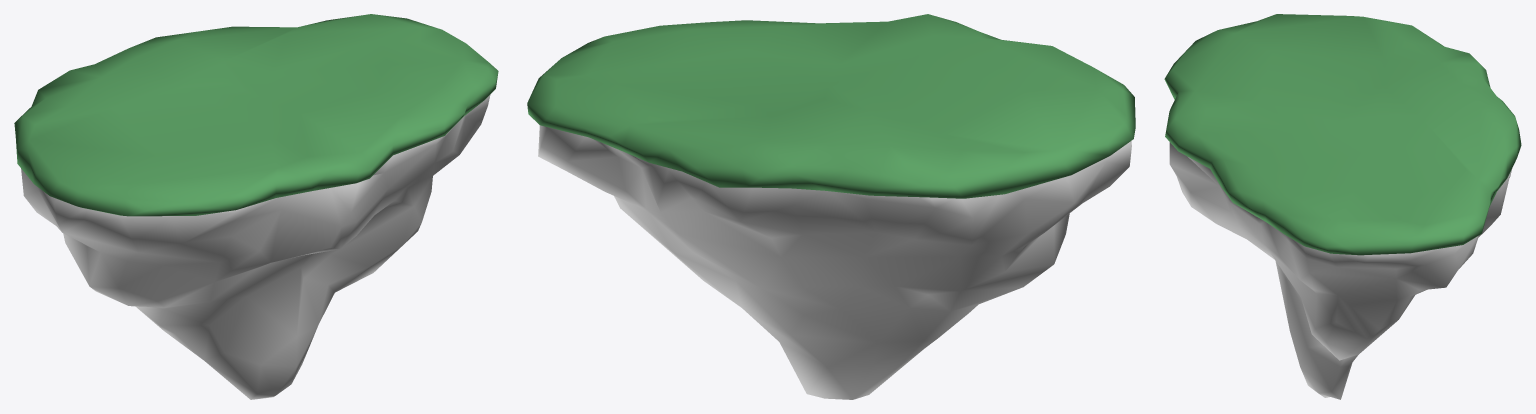
File: IslandsLong1LOD.fbx
3 views of the same model, side by side, from view 1: azimuth 30°, elevation 25°; view 2: azimuth 150°, elevation 25°; view 3: azimuth 270°, elevation 25° (orthographic). The views are drawn at different scales.
Parts seen in each view (by area): view 1: IslandLong1TopLOD, IslandLong1BottomLOD; view 2: IslandLong1TopLOD, IslandLong1BottomLOD; view 3: IslandLong1TopLOD, IslandLong1BottomLOD.
Boxes of the visible parts, left/top/right/bottom form: IslandLong1TopLOD: left=14, top=14, right=498, bottom=216; IslandLong1BottomLOD: left=21, top=94, right=490, bottom=399; IslandLong1TopLOD: left=527, top=14, right=1135, bottom=198; IslandLong1BottomLOD: left=538, top=125, right=1131, bottom=399; IslandLong1TopLOD: left=1164, top=14, right=1521, bottom=255; IslandLong1BottomLOD: left=1169, top=142, right=1512, bottom=399.
Bounding box in the file's own units: 3361 × 2037 × 2316.
